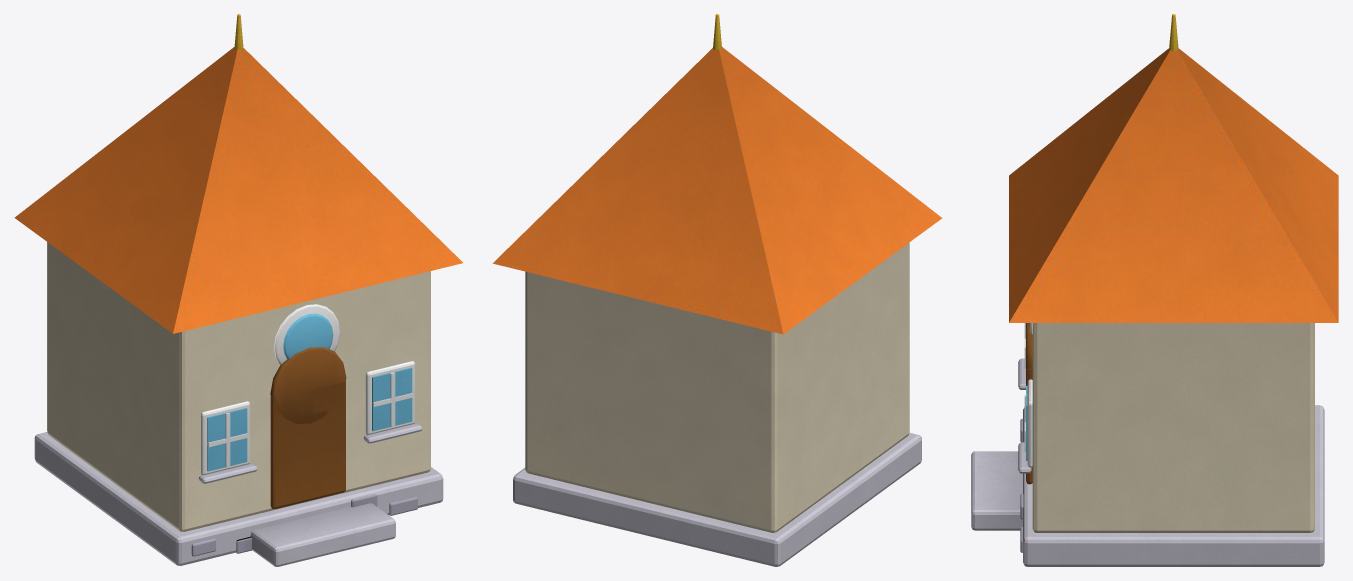
The model's file is atelier0.glb.
3 renders of one model, left to right at view 1: azimuth 30°, elevation 25°; view 2: azimuth 150°, elevation 25°; view 3: azimuth 270°, elevation 25°, orthographic. The views are drawn at different scales.
Parts seen in each view (by area): view 1: appui__stone; view 2: appui__stone; view 3: appui__stone.
Boxes of the visible parts, x1,y1,x2,y2 form: appui__stone: (14,14,462,566); appui__stone: (492,14,942,566); appui__stone: (971,14,1338,566).
Size of the model in its own units: 3.7 by 5.7 by 3.9.
Materials: 1 (1 with a texture image).
